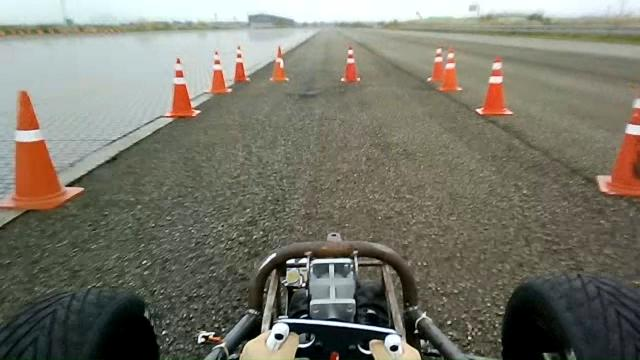red cone: (1, 89, 84, 211), (596, 93, 639, 197), (163, 56, 201, 118), (475, 56, 513, 115), (204, 49, 232, 95), (437, 47, 463, 92), (228, 44, 251, 85), (340, 45, 361, 83), (269, 46, 289, 82), (426, 46, 444, 82)
